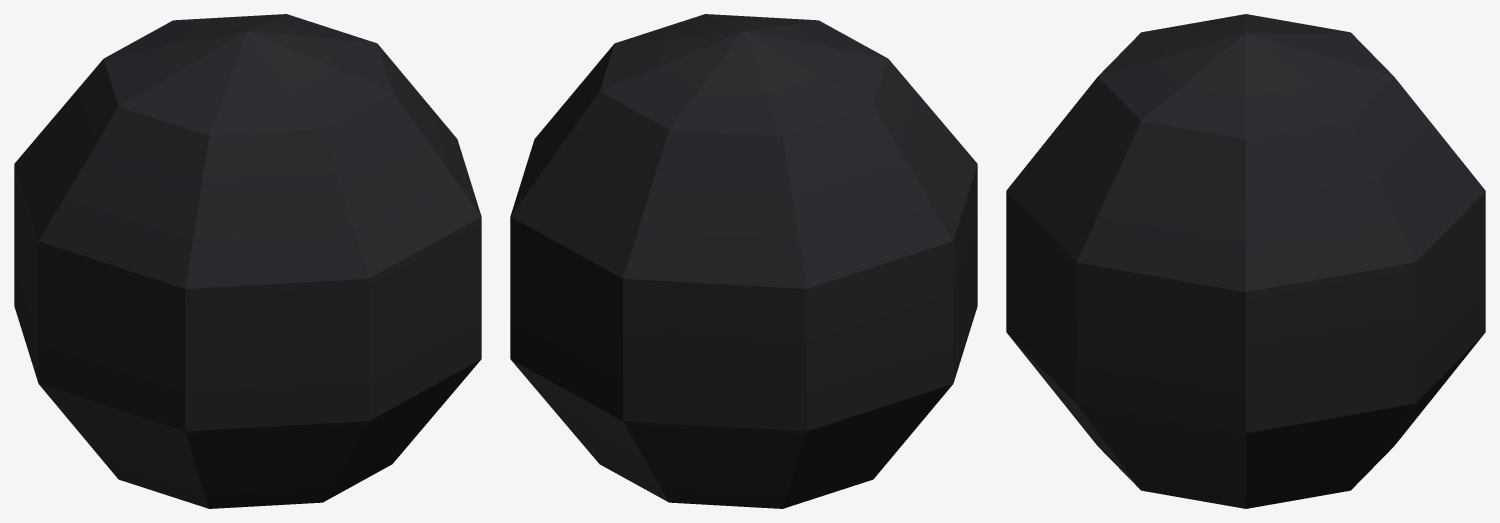
The model's file is cannonball.glb.
The picture shows the model from 3 angles, left to right: view 1: azimuth 30°, elevation 25°; view 2: azimuth 150°, elevation 25°; view 3: azimuth 270°, elevation 25°; orthographic projection.
Parts seen in each view (by area): view 1: cannonball; view 2: cannonball; view 3: cannonball.
Boxes of the visible parts, <box> form: cannonball: <box>14,14,481,508</box>; cannonball: <box>510,14,977,508</box>; cannonball: <box>1006,14,1485,508</box>.
Size of the model in its own units: 0.2283 by 0.24 by 0.2283.
Materials: 1 (1 with a texture image).
